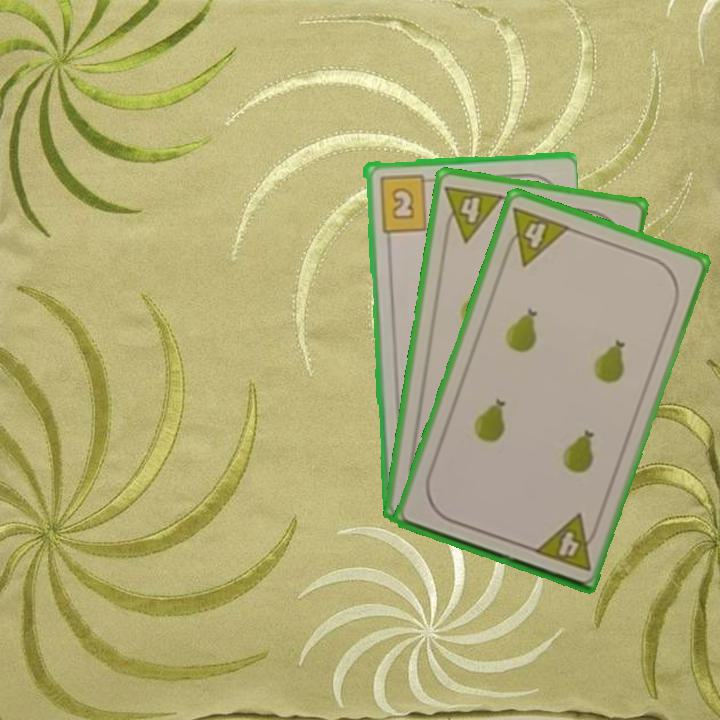2b: (375, 171, 436, 234)
4p: (499, 203, 573, 269), (530, 510, 602, 574), (439, 181, 507, 245)
